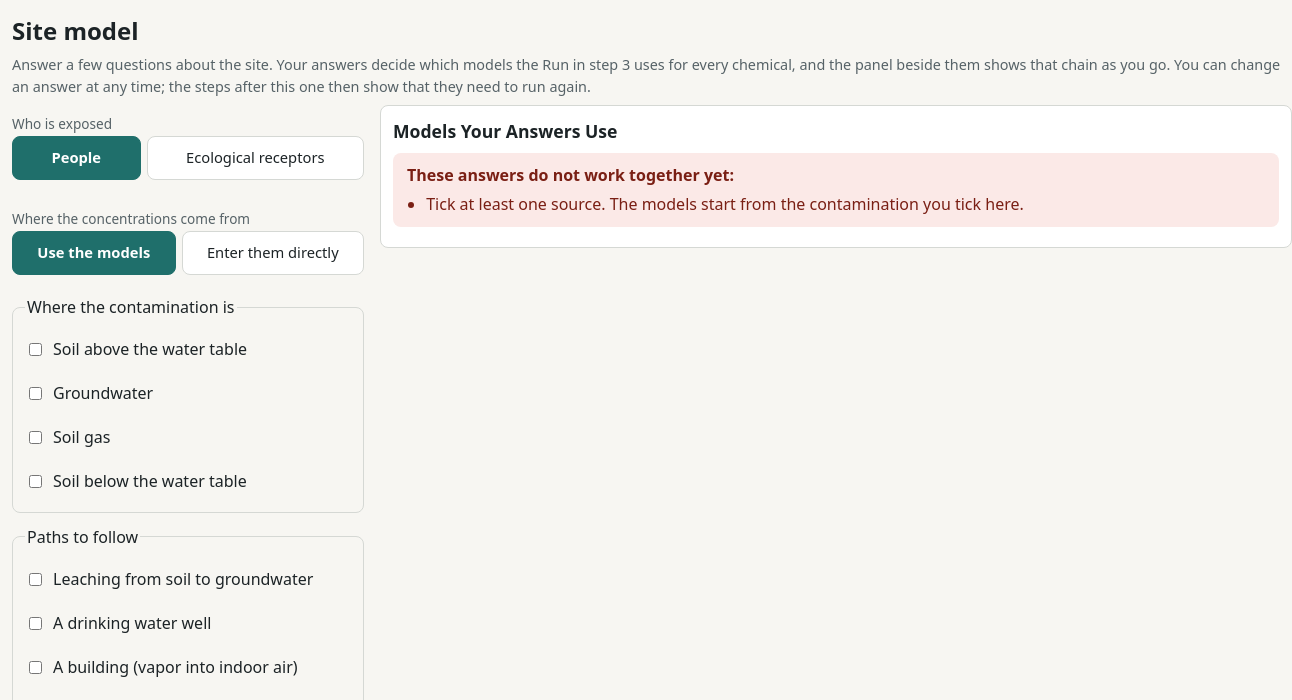
Test: SiteStep › lists the problems of the chain as they arise and clears them when fixed
Expected: the message shows "at least one source", [426,193,1024,215]
Step 1. Click the checkbox labelled "Groundwater" → {"x": 36, "y": 394}, box [29,387,42,400]
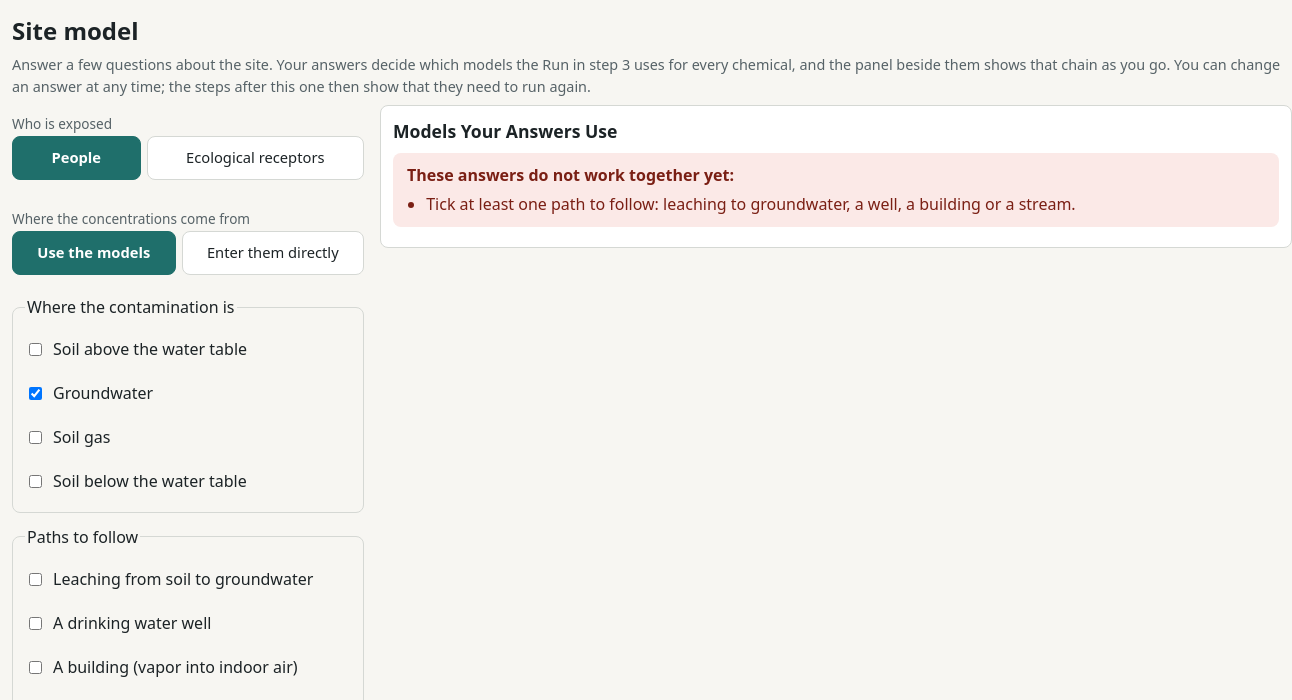
Expected: the message shows "at least one path", [426,193,1076,215]
Step 2. Click the checkbox labelled "A drinking water well" → {"x": 36, "y": 623}, box [29,617,42,630]
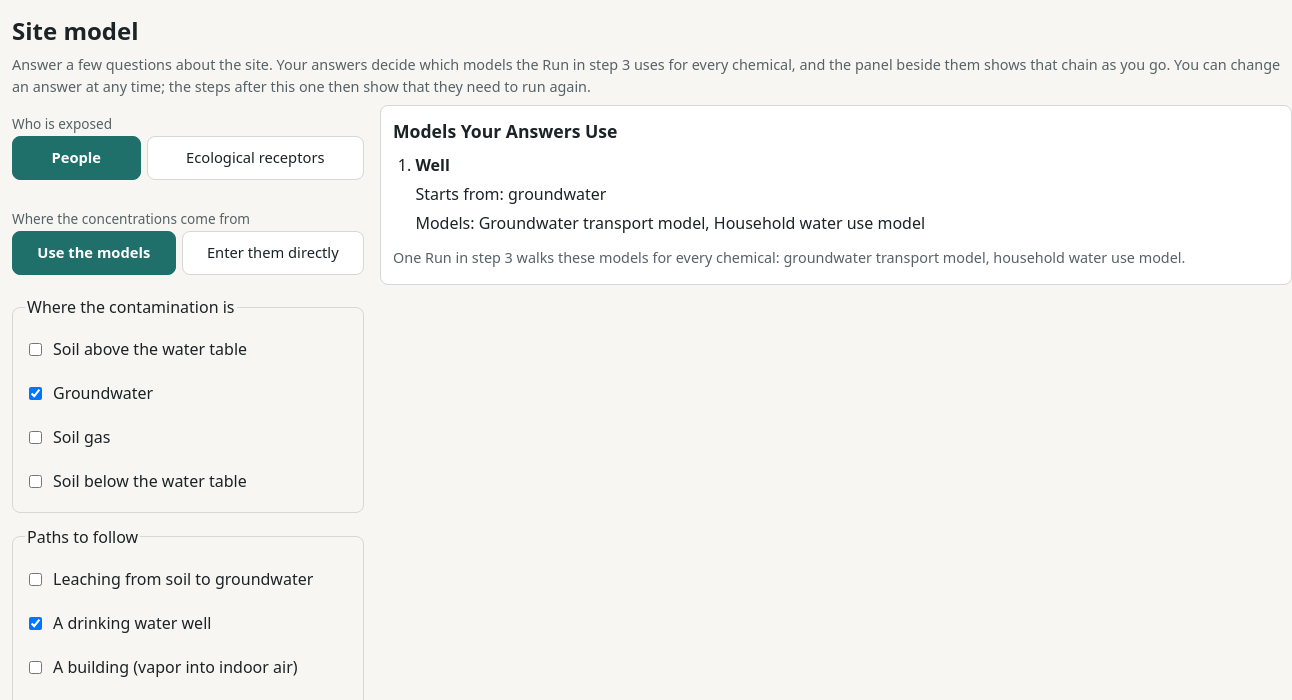
Expected: the message is gone
Step 3. Click the checkbox labelled "Leaching from soil to groundwater" → {"x": 36, "y": 579}, box [29,573,42,586]
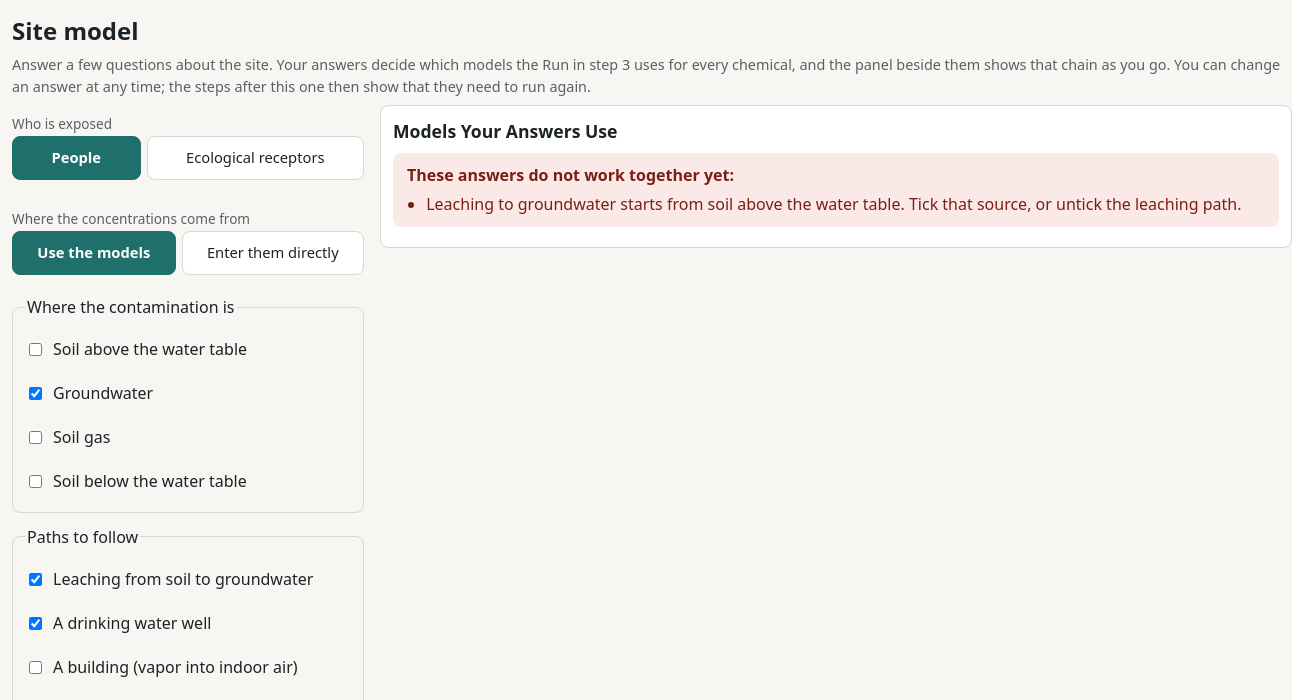
Expected: the message shows "soil above the water table", [426,193,1242,215]
